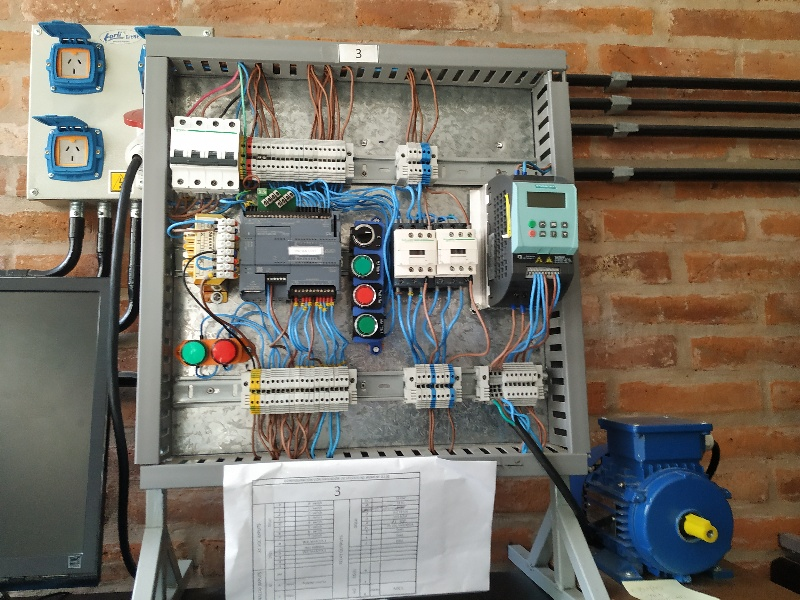Tablero 3: (147, 37, 586, 470)
